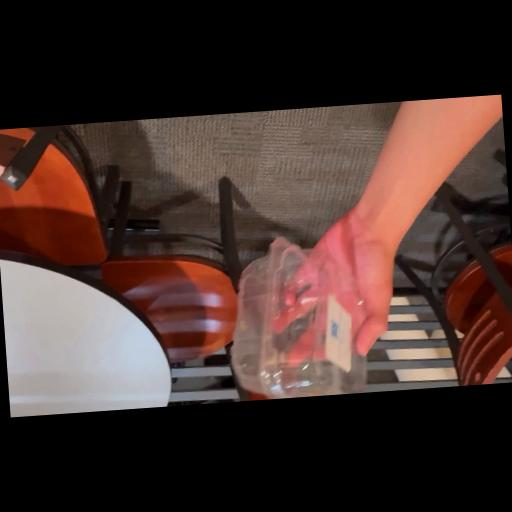small_plastic_container: (215, 218, 383, 402)
